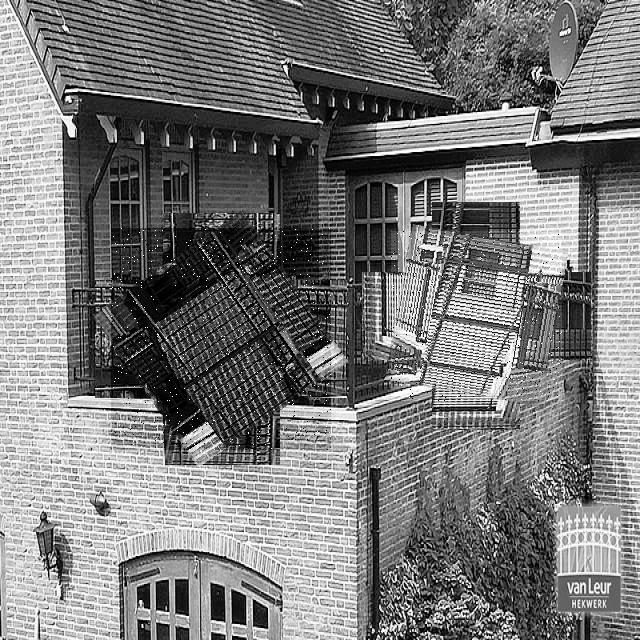fences: (111, 228, 331, 450), (391, 231, 562, 401)
